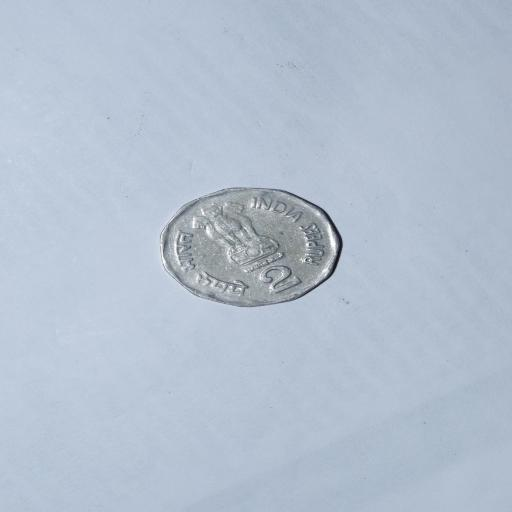rupee2: (160, 187, 342, 306)
